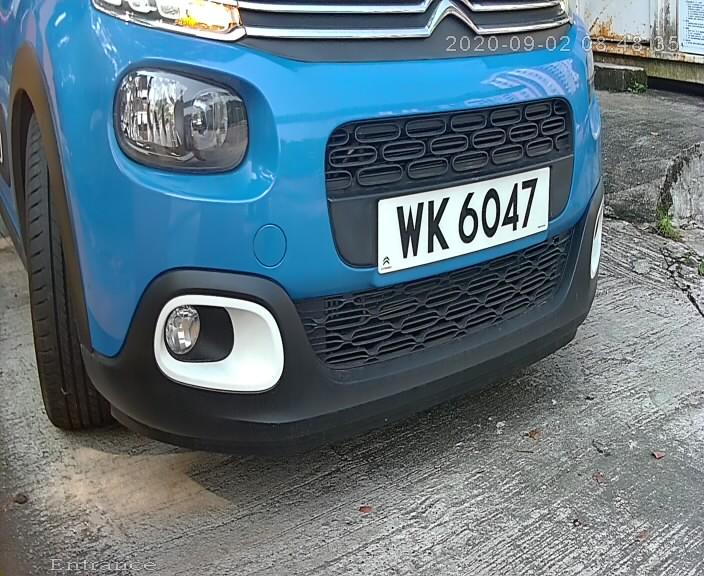License Plate: (371, 160, 557, 286)
